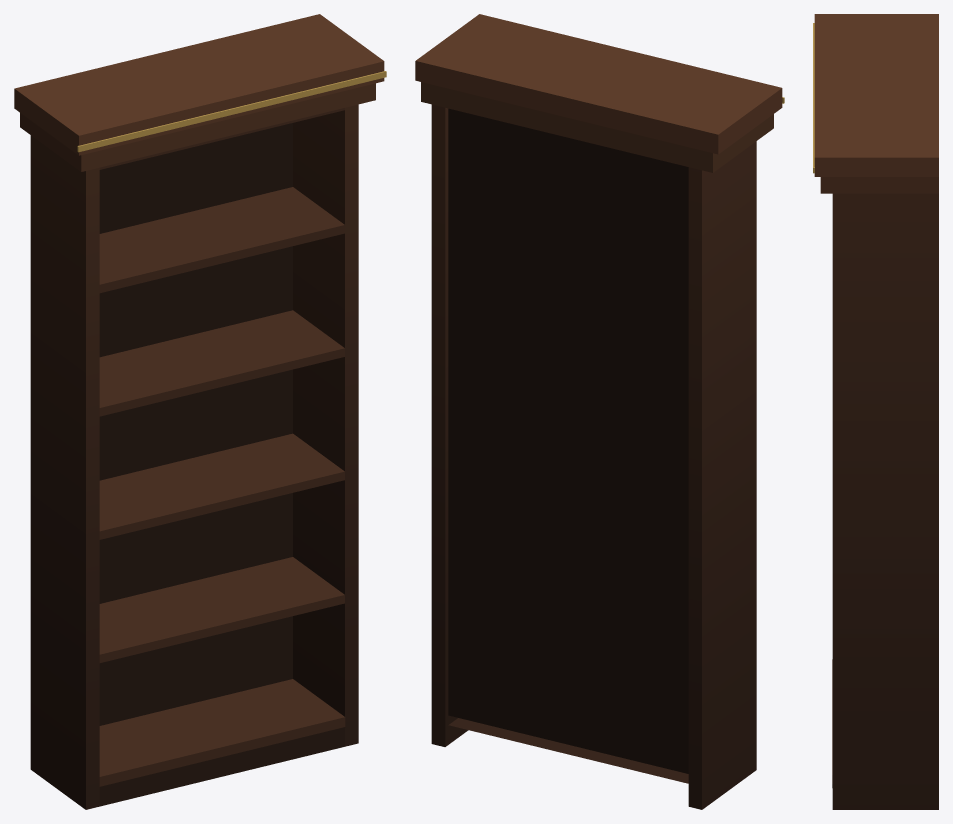
The model's file is SM_Bookcase_Tall_1m.fbx.
3 renders of one model, left to right at view 1: azimuth 30°, elevation 25°; view 2: azimuth 150°, elevation 25°; view 3: azimuth 270°, elevation 25°, orthographic. The views are drawn at different scales.
Visible parts, largest first — view 1: SM_Bookcase_Tall_1m; view 2: SM_Bookcase_Tall_1m; view 3: SM_Bookcase_Tall_1m.
Boxes of the visible parts, box(x1,y1,x2,y2) form: SM_Bookcase_Tall_1m: box(14, 14, 386, 809); SM_Bookcase_Tall_1m: box(415, 14, 784, 809); SM_Bookcase_Tall_1m: box(813, 14, 938, 809).
Size of the model in its own units: 1.13 by 2.4 by 0.415.
